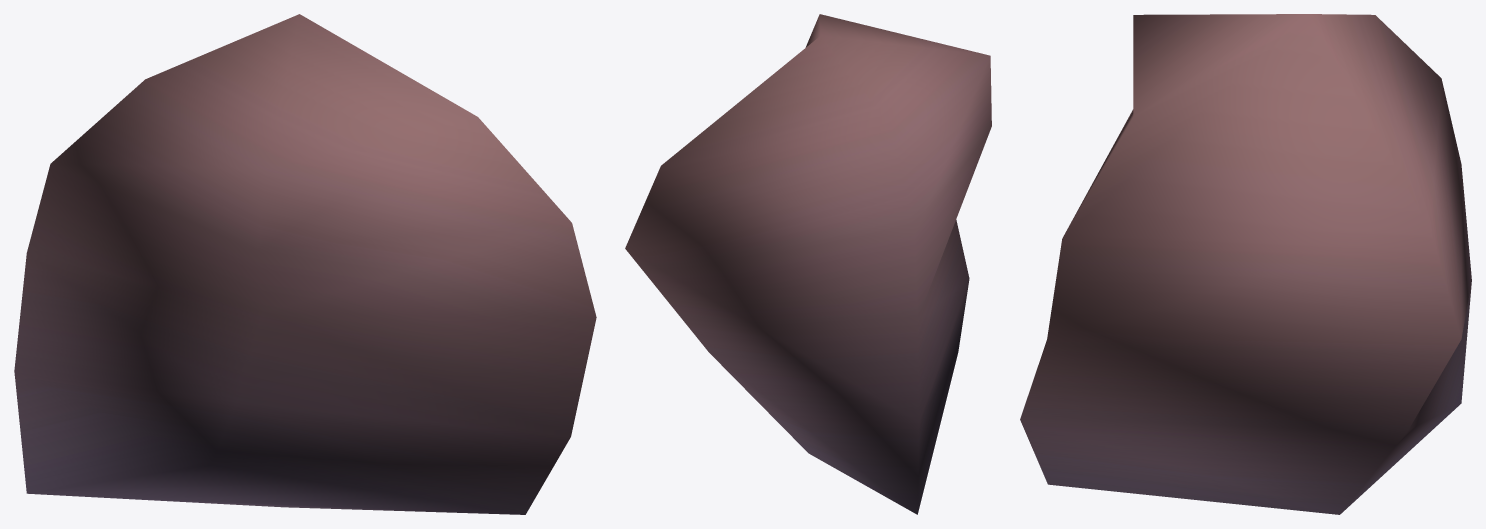
File: Rock 01.glb
3 renders of one model, left to right at view 1: azimuth 30°, elevation 25°; view 2: azimuth 150°, elevation 25°; view 3: azimuth 270°, elevation 25°, orthographic. The views are drawn at different scales.
Parts seen in each view (by area): view 1: Cube; view 2: Cube; view 3: Cube.
Boxes of the visible parts, <box> form: Cube: <box>14,14,596,514</box>; Cube: <box>625,14,991,514</box>; Cube: <box>1020,14,1471,514</box>.
Size of the model in its own units: 2.04 by 2.67 by 2.18.
Materials: 1 (1 with a texture image).
